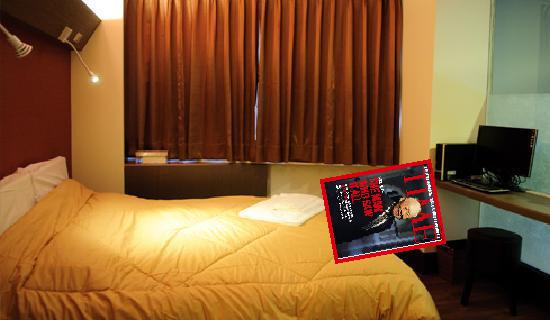times: (315, 155, 445, 267)
